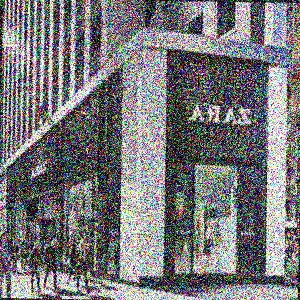zara: (116, 52, 300, 156), (33, 94, 80, 248)
